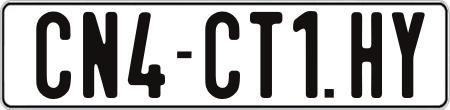1: (290, 10, 319, 103)
4: (126, 11, 168, 103)
C: (33, 12, 74, 102), (204, 12, 240, 100)
H: (351, 10, 386, 102)
N: (80, 12, 118, 103)
T: (247, 9, 279, 96)
Y: (390, 11, 423, 101)
